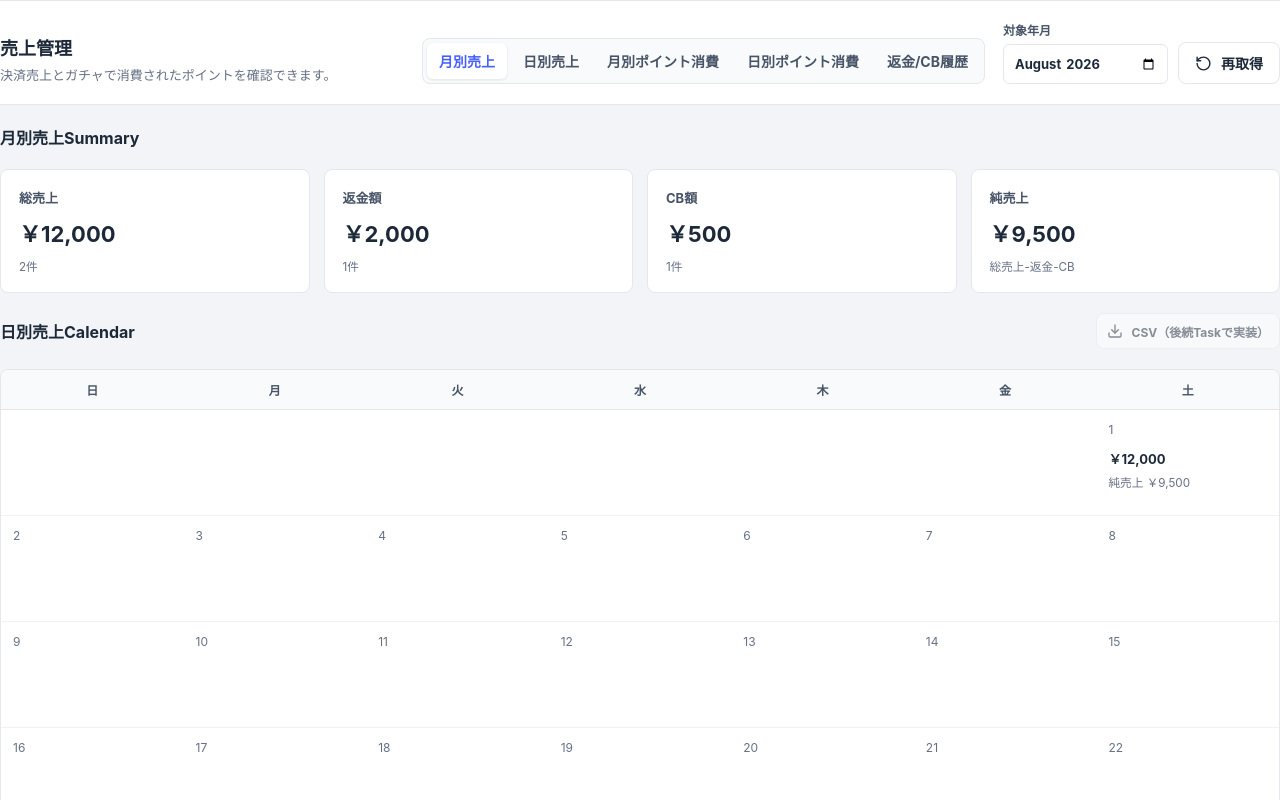
Test: Dashboard sales layout › renders daily payments, reversals, and point ledger data without internal IDs
Click the tab "日別売上" at point(551, 61), box x1=511 y1=43 x2=591 y2=79
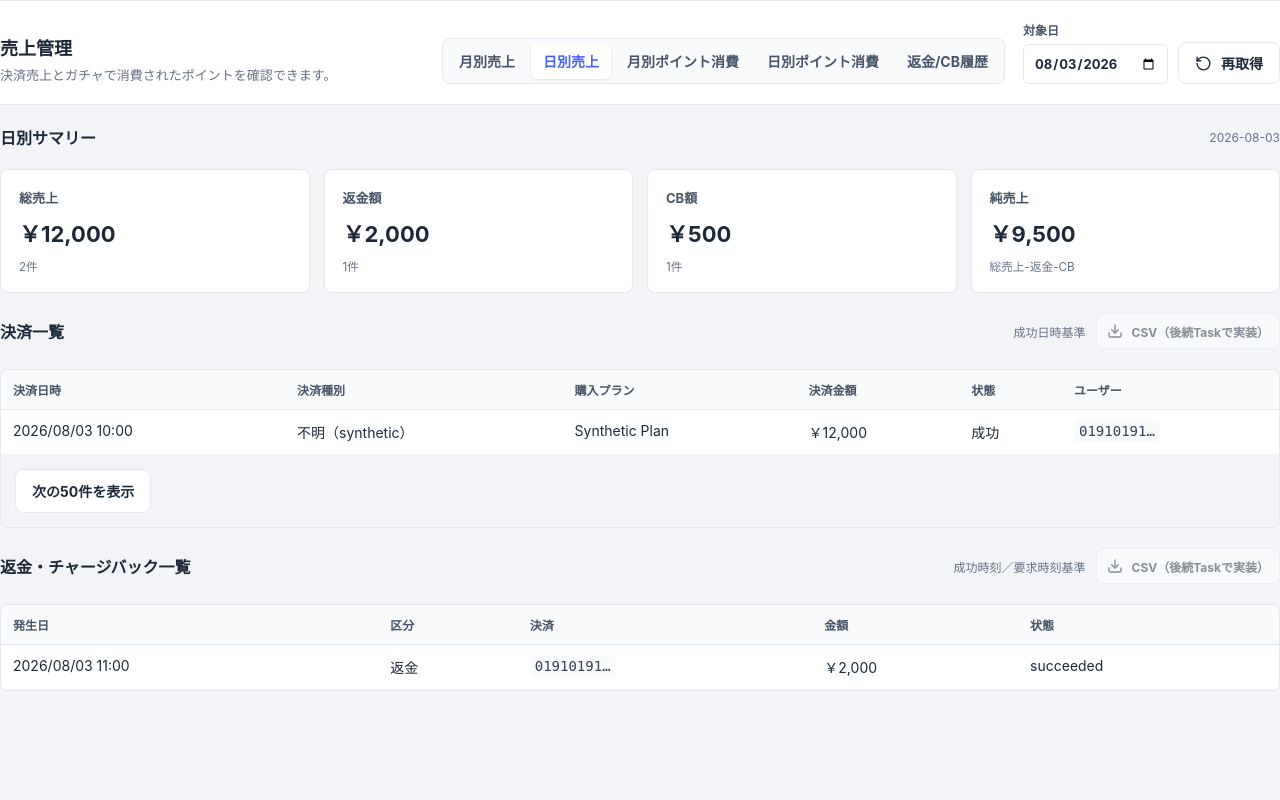
Expected: the text "Synthetic Plan" is shown, x1=562 y1=410 x2=796 y2=454
Expected: the text "返金" is shown, x1=378 y1=644 x2=518 y2=690
Click the tab "日別ポイント消費" at point(823, 61), box x1=755 y1=43 x2=891 y2=79
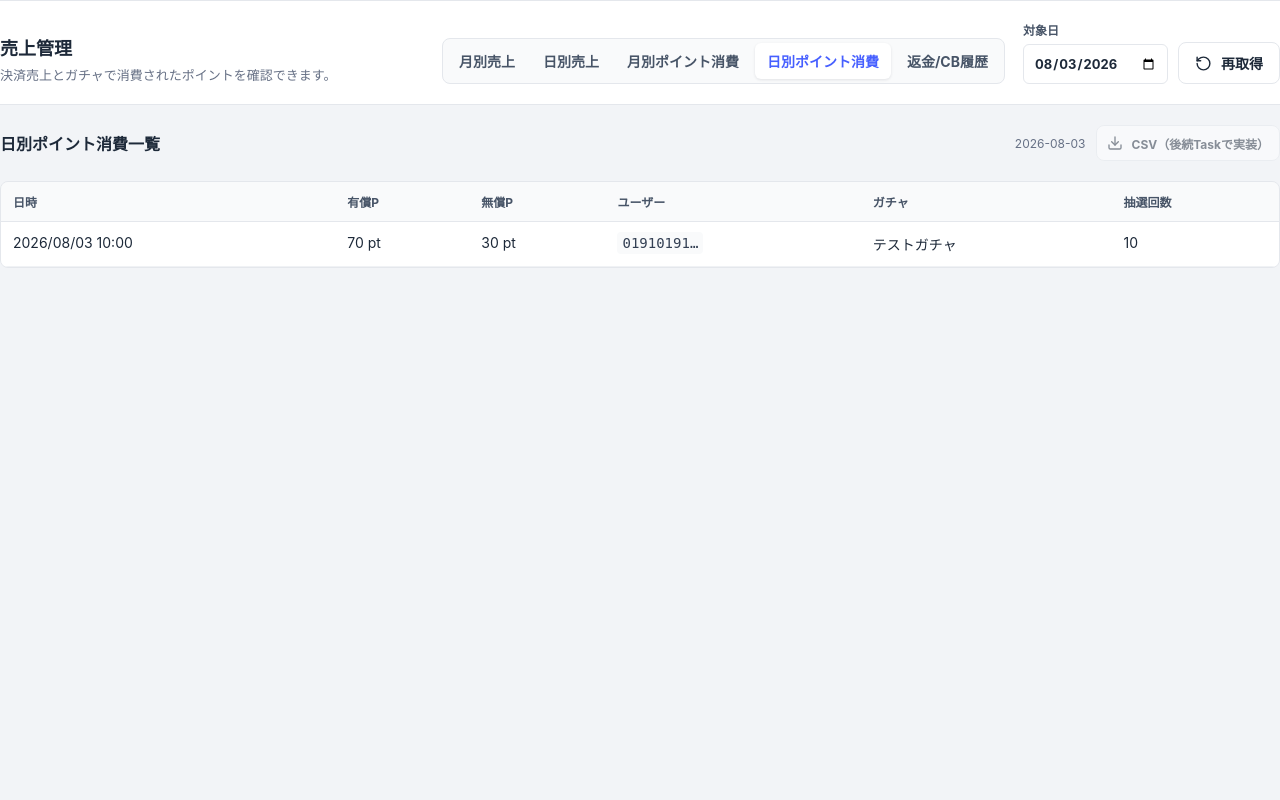
Expected: the text "テストガチャ" is shown, x1=861 y1=222 x2=1112 y2=266
Expected: the text "70 pt" is shown, x1=335 y1=222 x2=469 y2=266
Expected: the text "30 pt" is shown, x1=469 y1=222 x2=606 y2=266
